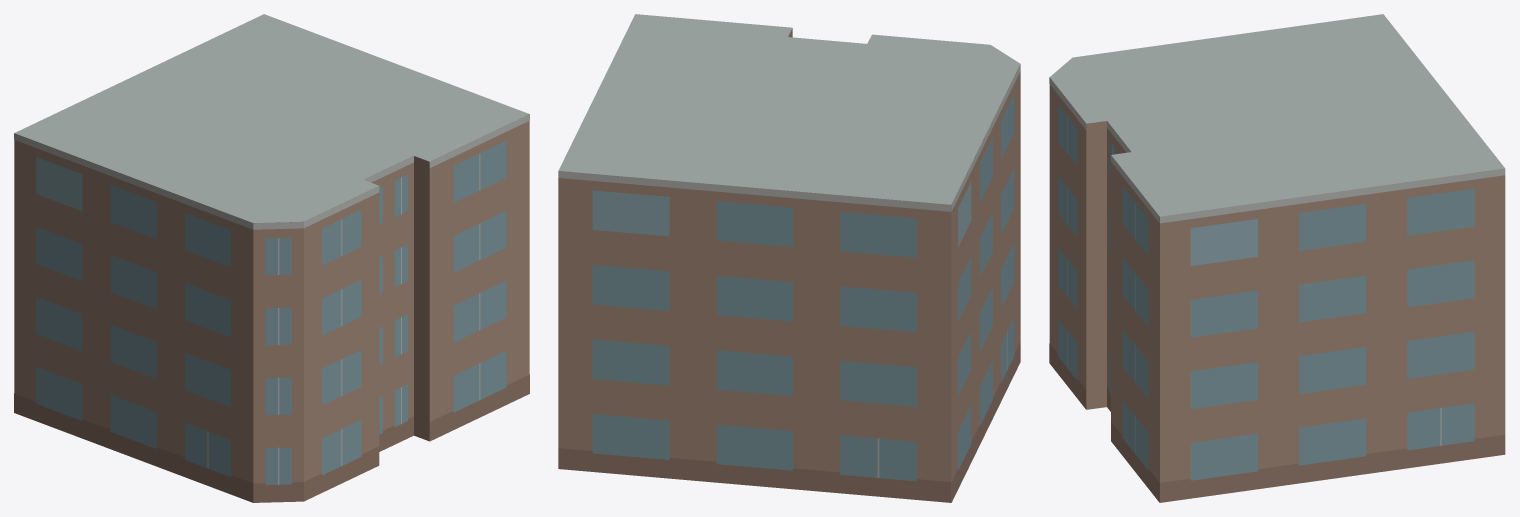
Rendered from survey-upis-32745666.glb.
3 renders of one model, left to right at view 1: azimuth 30°, elevation 25°; view 2: azimuth 150°, elevation 25°; view 3: azimuth 270°, elevation 25°, orthographic. The views are drawn at different scales.
Visible parts, largest first — view 1: survey-upis-32745666.tmp; view 2: survey-upis-32745666.tmp; view 3: survey-upis-32745666.tmp.
Part boxes in pixels (<box>): survey-upis-32745666.tmp: <box>14,14,529,502</box>; survey-upis-32745666.tmp: <box>558,14,1020,502</box>; survey-upis-32745666.tmp: <box>1049,14,1505,502</box>.
Size of the model in its own units: 15.66 by 10.3 by 14.88.
